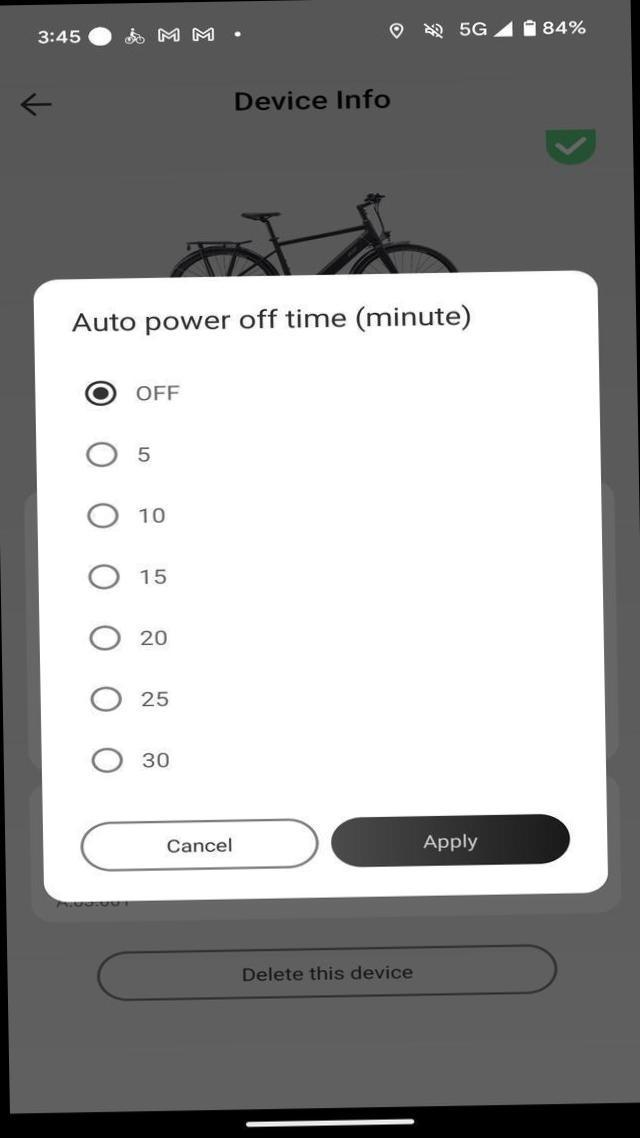CheckedTextView: (86, 561, 120, 593), (88, 622, 122, 654), (84, 439, 117, 471), (86, 499, 120, 530), (89, 746, 124, 774), (85, 378, 116, 409), (89, 684, 122, 713)
Icon: (541, 124, 598, 164), (19, 92, 54, 126), (120, 24, 148, 48), (460, 18, 488, 42), (187, 25, 217, 46), (86, 24, 112, 48), (420, 20, 447, 43), (153, 25, 180, 46), (492, 20, 516, 38), (388, 22, 404, 44), (522, 20, 536, 41), (232, 26, 240, 42)
Image: (143, 186, 477, 279)
Text: (61, 297, 478, 348), (230, 81, 393, 117), (233, 959, 424, 989), (156, 830, 247, 859), (414, 826, 488, 856), (129, 379, 185, 408), (131, 562, 177, 594), (132, 746, 175, 778), (135, 682, 177, 714), (31, 26, 82, 48), (134, 623, 170, 652), (542, 17, 588, 39), (135, 504, 167, 530), (132, 442, 162, 466)
TextButton: (94, 942, 558, 1002), (330, 813, 570, 867), (80, 822, 320, 872)
